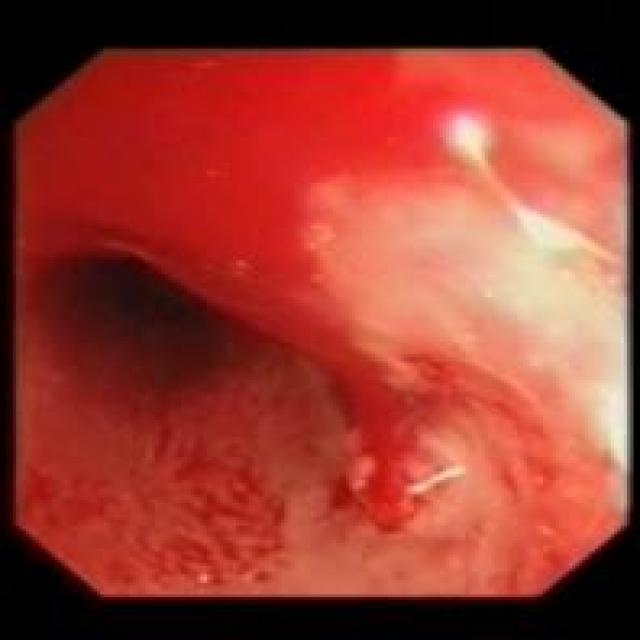blood: (36, 56, 481, 376), (318, 355, 571, 551), (62, 416, 291, 582)
contrast: (35, 248, 269, 401)
saturation: (368, 113, 626, 454)
specularity: (445, 111, 495, 165)
